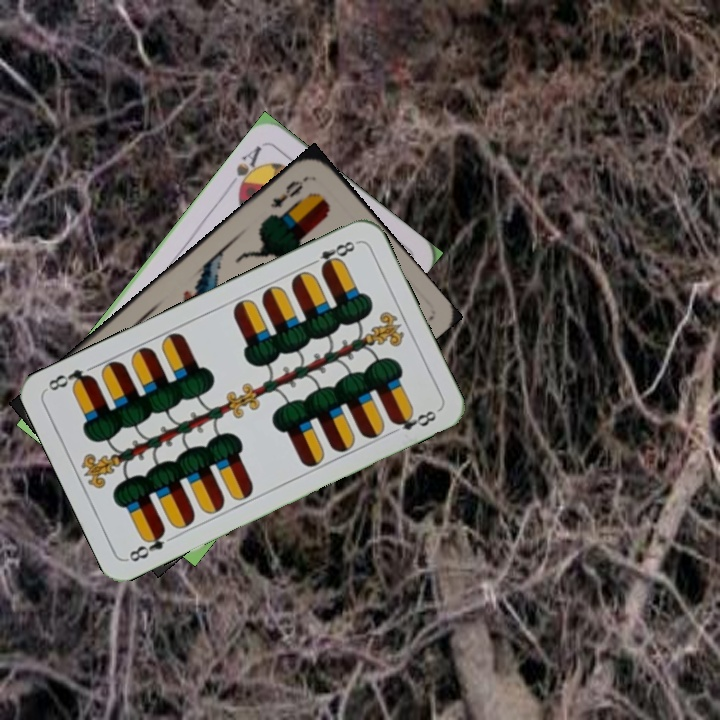E8: (305, 237, 361, 273), (125, 525, 168, 565)
EO: (266, 173, 310, 211)
SA: (231, 141, 265, 197)
